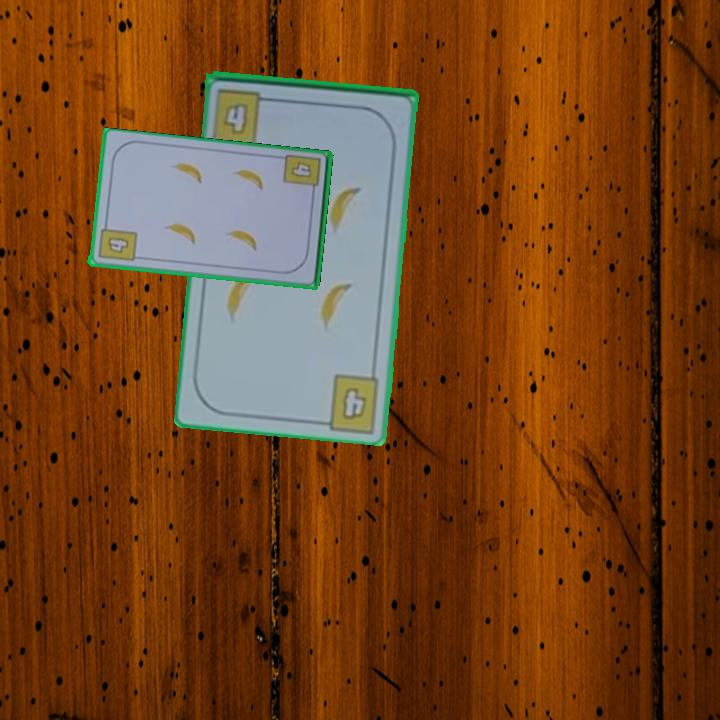4b: (212, 85, 278, 149), (94, 219, 139, 264), (339, 384, 370, 424), (287, 158, 314, 181)
